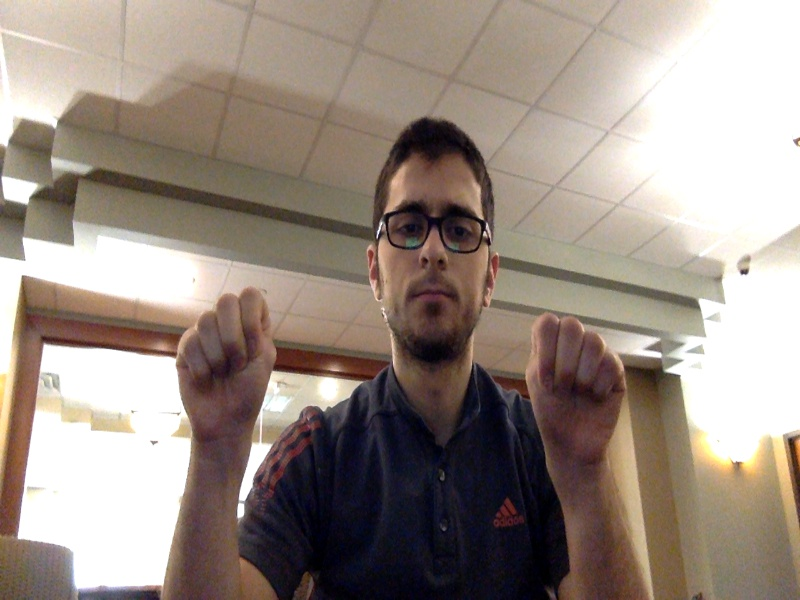0-hand: (176, 290, 276, 441), (530, 312, 621, 451)
